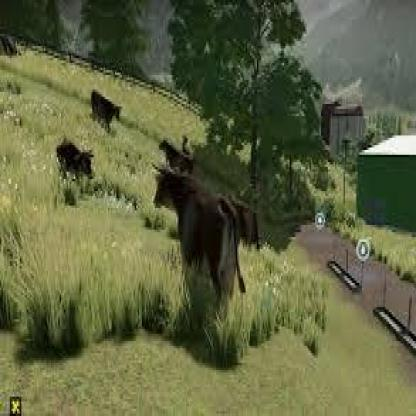cow: (153, 167, 246, 302), (226, 191, 260, 252), (57, 138, 95, 186), (158, 134, 197, 173), (90, 88, 123, 134)
